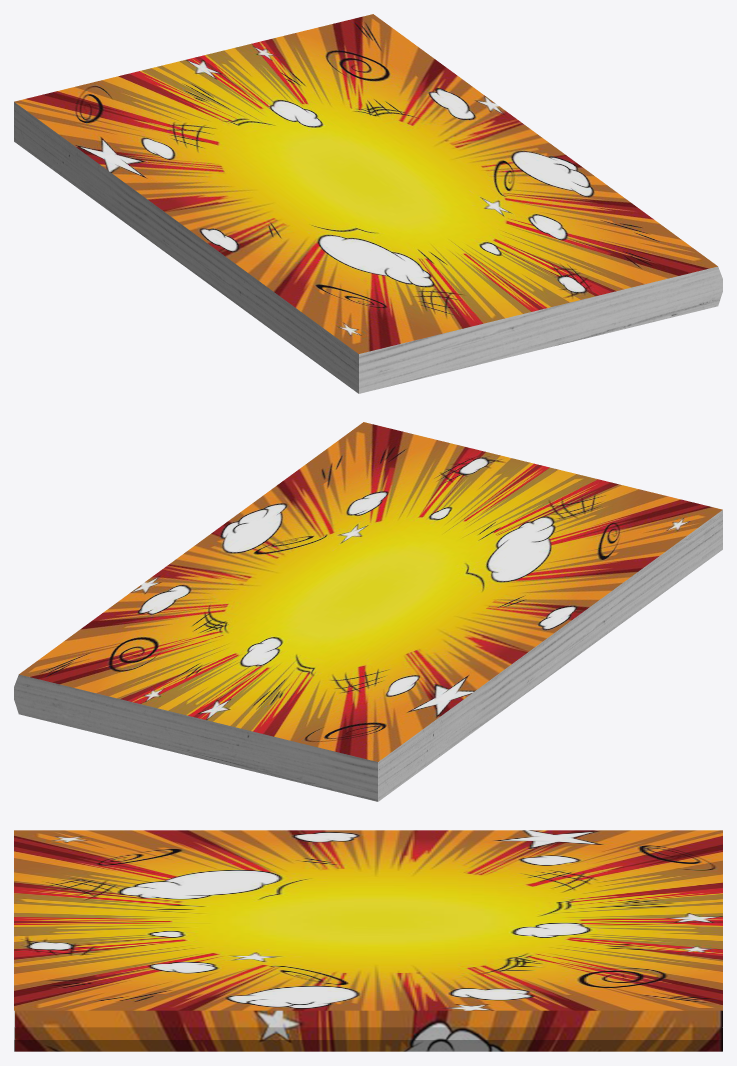
Rendered from TNP0110032.fbx.
3 views of the same model, one above another, from view 1: azimuth 30°, elevation 25°; view 2: azimuth 150°, elevation 25°; view 3: azimuth 270°, elevation 25° (orthographic). The views are drawn at different scales.
Parts seen in each view (by area): view 1: smTNP0110032; view 2: smTNP0110032; view 3: smTNP0110032.
Part boxes in pixels (<box>): smTNP0110032: <box>14,14,722,393</box>; smTNP0110032: <box>14,422,722,801</box>; smTNP0110032: <box>14,830,722,1051</box>.
Size of the model in its own units: 24.04 by 2.51 by 39.44.
Materials: 1 (1 with a texture image).
